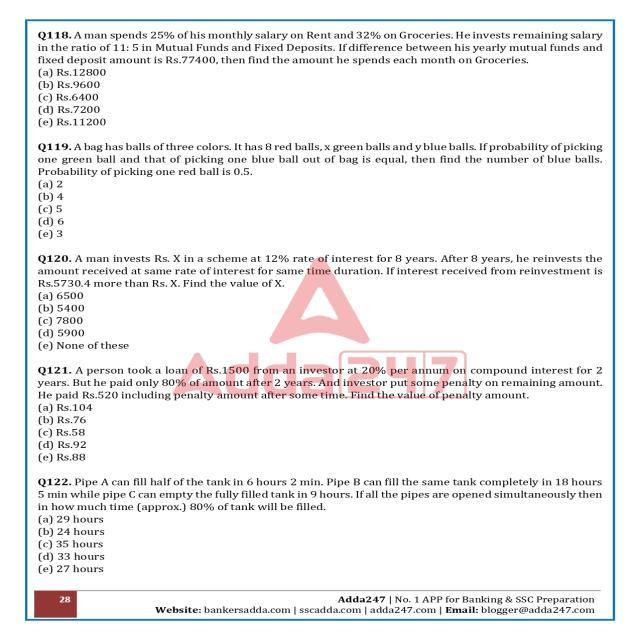Answer_Block: (22, 402, 615, 468), (24, 512, 606, 579), (26, 176, 612, 242), (26, 64, 612, 128), (27, 290, 612, 354)
Question_Answer_Block: (26, 252, 612, 357), (24, 366, 612, 469), (26, 474, 612, 576), (24, 144, 610, 242), (22, 32, 614, 129)
Question_Block: (26, 29, 614, 69), (22, 366, 605, 402), (21, 477, 616, 512), (29, 142, 616, 177), (24, 255, 608, 290)
Question_Paper_Area: (24, 37, 614, 588)
